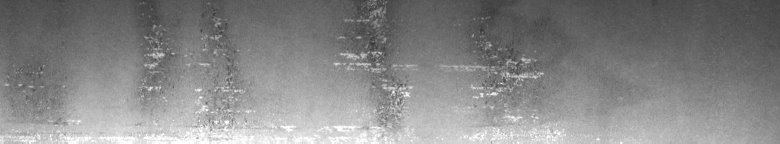hc: (138, 8, 255, 128)
